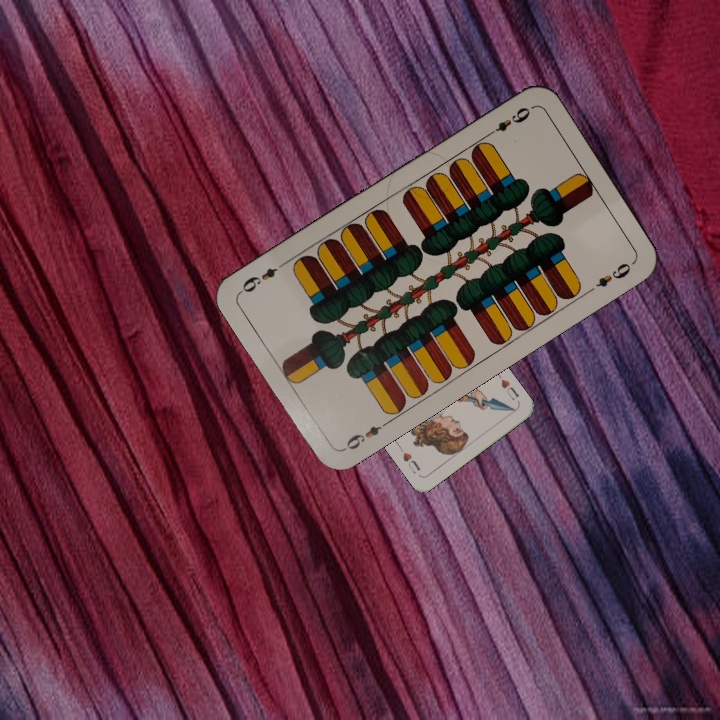E9: (338, 417, 392, 454), (482, 102, 533, 140)
HU: (497, 375, 522, 403)
